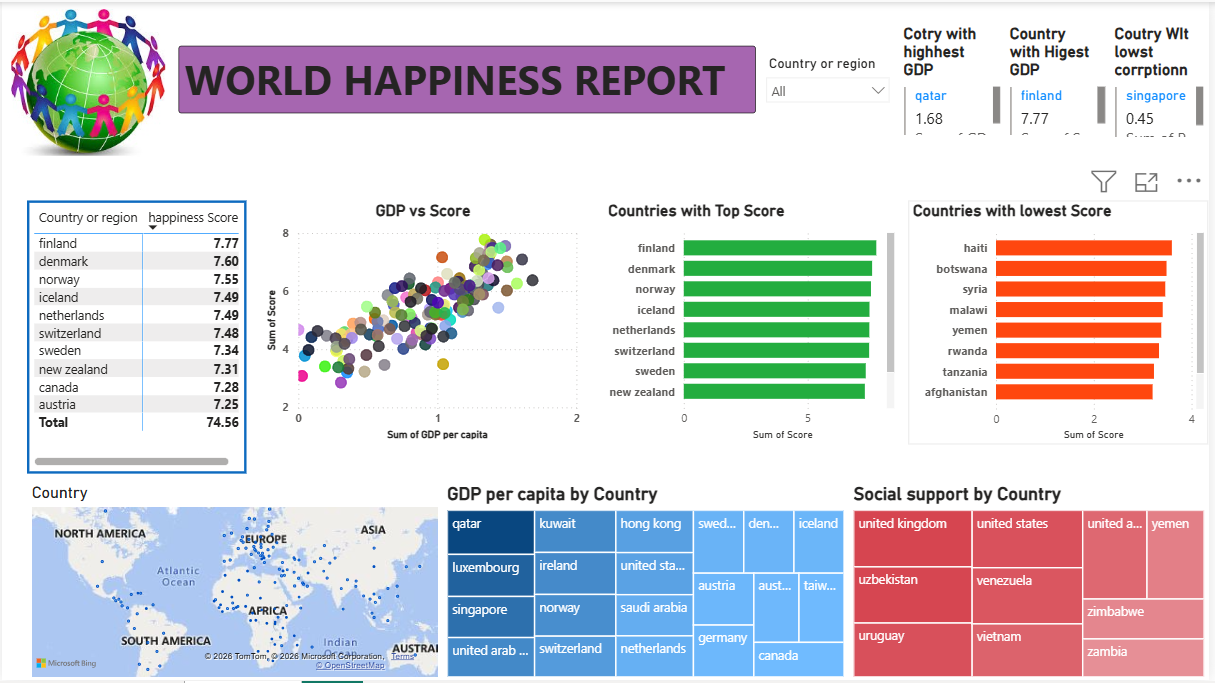

This screenshot's page, from the dashboard's own definition file:
{"tool":"powerbi","page":{"name":"Page 1","canvas":[1280,720],"ordinal":0},"visuals":[{"type":"image","box":[10.2,0,163.3,171.5],"z":0},{"type":"textbox","box":[187.9,47,612.6,71.5],"z":1000},{"type":"pivotTable","fields":{"Rows":["Happiness Score Data.Country or region"],"Values":["Sum(Happiness Score Data.Score)"]},"box":[26.5,210.3,232.8,289.9],"z":2000},{"type":"scatterChart","title":"GDP vs  Score","fields":{"X":["Sum(Happiness Score Data.GDP per capita)"],"Y":["Sum(Happiness Score Data.Score)"],"Series":["Happiness Score Data.Country or region"]},"box":[275.2,210.6,343.2,258.7],"z":3000},{"type":"barChart","title":"Countries with Top Score","fields":{"Category":["Happiness Score Data.Country or region"],"Y":["Sum(Happiness Score Data.Score)"]},"box":[638.4,210.6,313.4,258.7],"z":4000},{"type":"barChart","title":"Countries with lowest Score","fields":{"Category":["Happiness Score Data.Country or region"],"Y":["Sum(Happiness Score Data.Score)"]},"box":[961.7,210.3,318.5,259.3],"z":5000},{"type":"map","title":"Country","fields":{"Category":["Happiness Score Data.Country or region"],"Size":["Sum(Happiness Score Data.Score)"]},"box":[26.5,510.5,441,210.3],"z":6000},{"type":"treemap","title":"GDP per capita by Country ","fields":{"Values":["Sum(Happiness Score Data.GDP per capita)"],"Group":["Happiness Score Data.Country or region"]},"box":[467.6,510.5,430.8,210.3],"z":7000},{"type":"treemap","title":"Social support by Country ","fields":{"Values":["Sum(Happiness Score Data.Social support)"],"Group":["Happiness Score Data.Country or region"]},"box":[898.4,510.5,381.8,210.3],"z":8000},{"type":"slicer","fields":{"Values":["Happiness Score Data.Country or region"]},"box":[800.4,51,151.1,69.4],"z":9000},{"type":"multiRowCard","title":"Cotry with highhest GDP","fields":{"Values":["Happiness Score Data.Country or region","Sum(Happiness Score Data.GDP per capita)"]},"box":[951.7,23.2,112.8,122.7],"z":10000},{"type":"multiRowCard","title":"Country with Higest GDP","fields":{"Values":["Happiness Score Data.Country or region","Sum(Happiness Score Data.Score)"]},"box":[1064.5,23.2,111.1,122.7],"z":11000},{"type":"multiRowCard","title":"Coutry WIt lowst corrptionn","fields":{"Values":["Happiness Score Data.Country or region","Sum(Happiness Score Data.Perceptions of corruption)"]},"box":[1175.6,23.2,104.5,124.4],"z":12000}]}

Visuals, with their boxes in screenshot pixels (x1, y1, x2, y2), scaled from the page's 1280x720 canvas onto the 1215x683 screenshot:
image: [10,0,165,163]
textbox: [178,45,760,112]
pivotTable - Happiness Score Data.Country or region x Sum(Happiness Score Data.Score): [25,199,246,474]
"GDP vs  Score" scatterChart: [261,200,587,445]
"Countries with Top Score" barChart: [606,200,903,445]
"Countries with lowest Score" barChart: [913,199,1214,445]
"Country" map: [25,484,444,682]
"GDP per capita by Country " treemap: [444,484,853,682]
"Social support by Country " treemap: [853,484,1214,682]
slicer - Happiness Score Data.Country or region: [760,48,903,114]
"Cotry with highhest GDP" multiRowCard: [903,22,1010,138]
"Country with Higest GDP" multiRowCard: [1010,22,1116,138]
"Coutry WIt lowst corrptionn" multiRowCard: [1116,22,1214,140]
